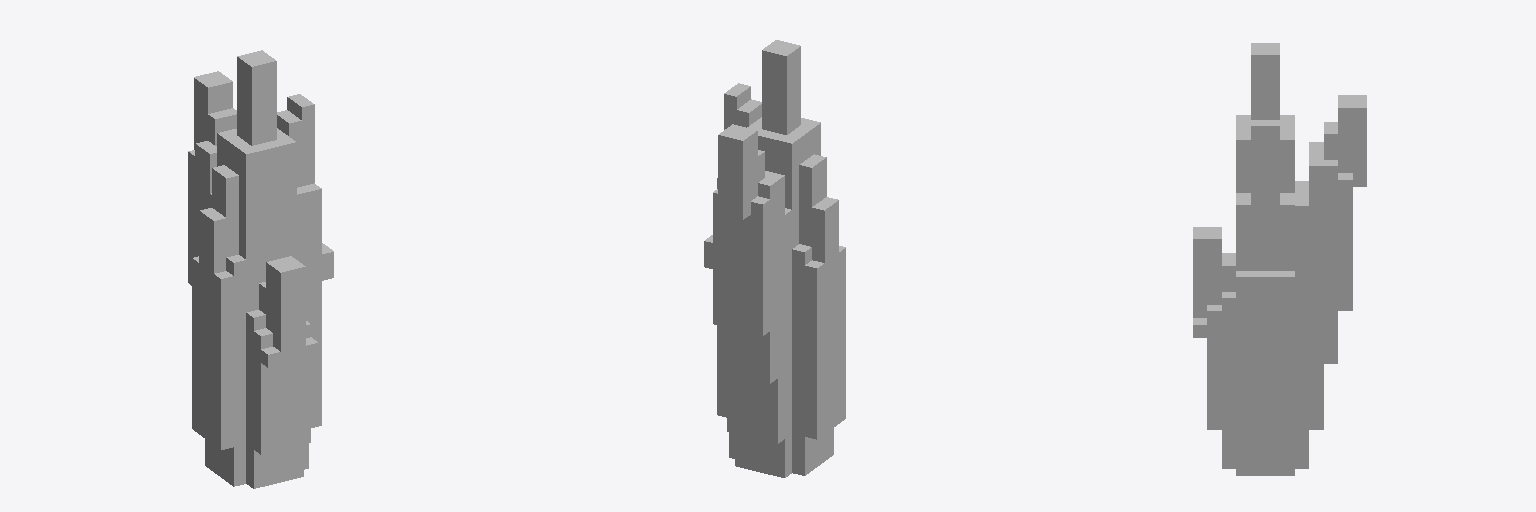
File: alchemizer green.obj
The picture shows the model from 3 angles: view 1: azimuth 30°, elevation 25°; view 2: azimuth 150°, elevation 25°; view 3: azimuth 270°, elevation 25°; orthographic projection.
Parts seen in each view (by area): view 1: object 1; view 2: object 1; view 3: object 1.
Boxes of the visible parts, <box> form: object 1: <box>188,50,333,488</box>; object 1: <box>704,40,845,477</box>; object 1: <box>1193,43,1366,475</box>.
Size of the model in its own units: 0.9 by 3.1 by 1.2.